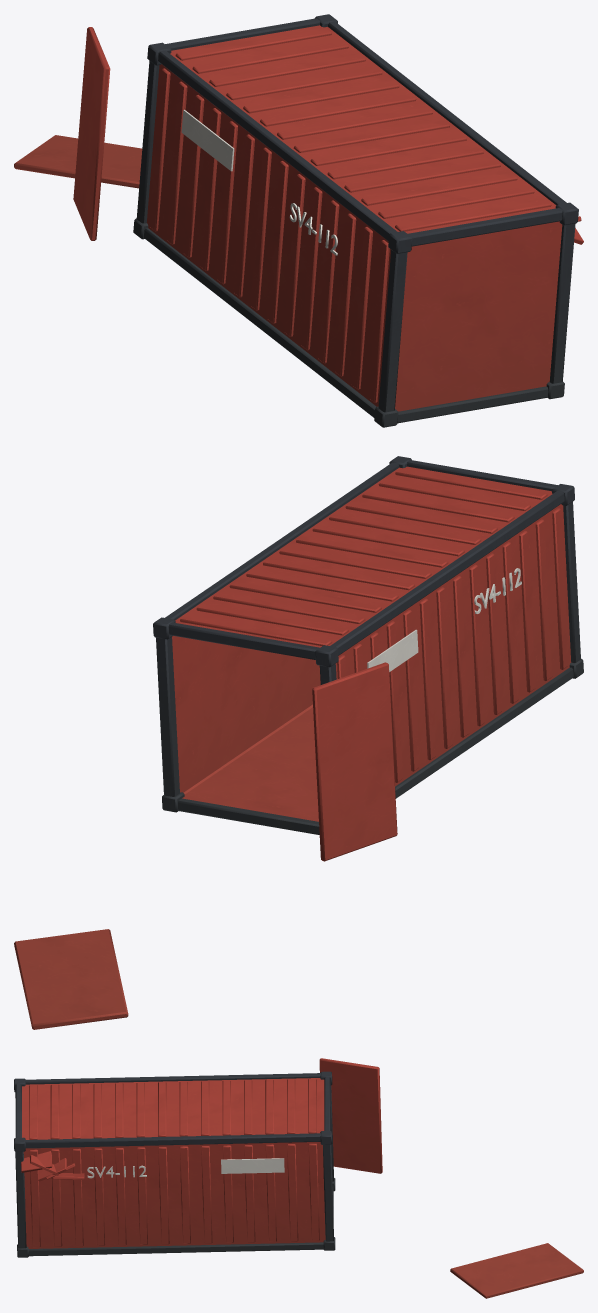
The model's file is sv04_container_red.glb.
3 renders of one model, top to bottom at view 1: azimuth 30°, elevation 25°; view 2: azimuth 150°, elevation 25°; view 3: azimuth 270°, elevation 25°, orthographic. The views are drawn at different scales.
Visible parts, largest first — view 1: sv04_container_red; view 2: sv04_container_red; view 3: sv04_container_red.
Boxes of the visible parts, x1,y1,x2,y2 form: sv04_container_red: [14, 14, 583, 427]; sv04_container_red: [14, 456, 583, 1029]; sv04_container_red: [14, 1058, 583, 1298].
Size of what is drawn, in the model's own units: 3.68 by 3.55 by 10.82.
8 materials, 8 textured.
